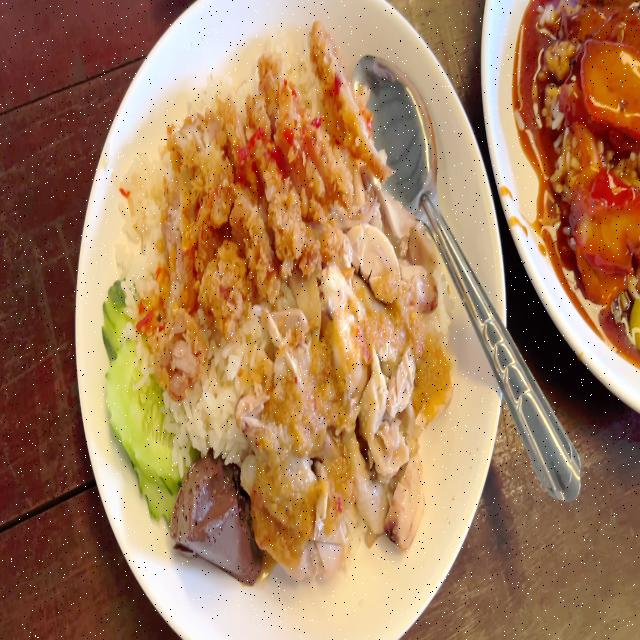boiled_chicken: (247, 196, 448, 558)
boiled_chicken_blood_jelly: (173, 452, 264, 584)
chicken_rice: (104, 17, 447, 564)
cucumber: (97, 279, 187, 524)
fried_chicken: (147, 18, 391, 385)
red_pork: (570, 170, 640, 296), (578, 40, 640, 147)
red_pork_and_crispy_pork: (533, 0, 640, 313)
